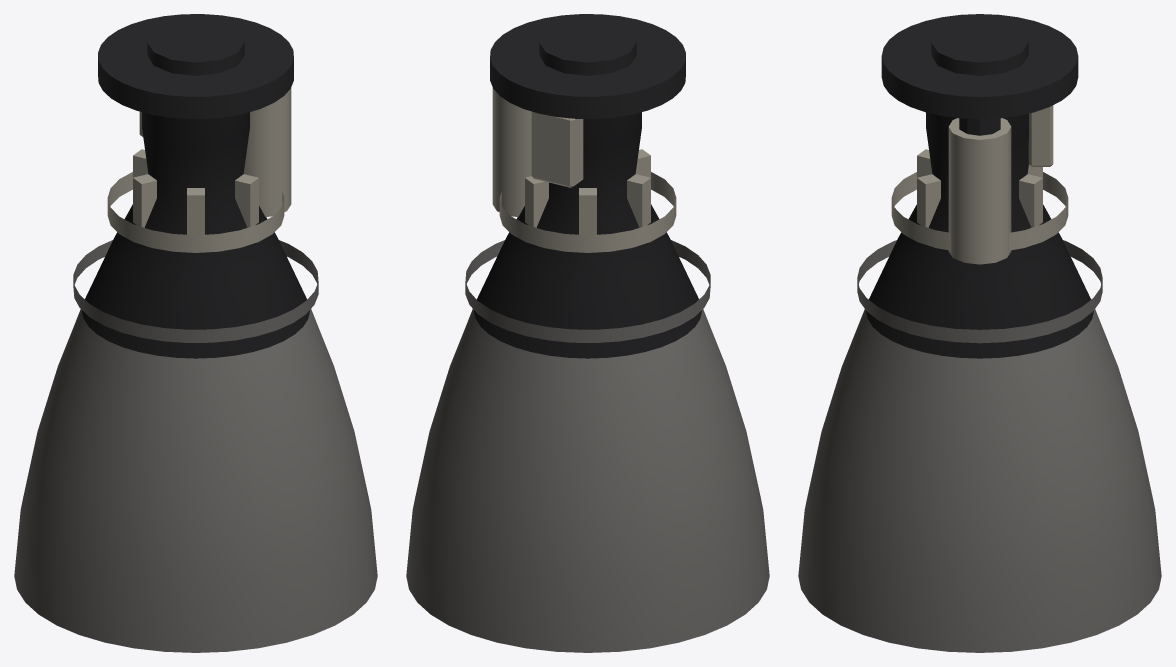
Rendered from f1_engine.glb.
3 views of the same model, side by side, from view 1: azimuth 30°, elevation 25°; view 2: azimuth 150°, elevation 25°; view 3: azimuth 270°, elevation 25° (orthographic).
Visible parts, largest first — view 1: model; view 2: model; view 3: model.
Part boxes in pixels (x1,y1,x2,y2): model: [14, 14, 377, 652]; model: [406, 14, 769, 652]; model: [798, 14, 1161, 652].
Size of the model in its own units: 3.7 by 6 by 3.7.
1 material, 1 textured.
